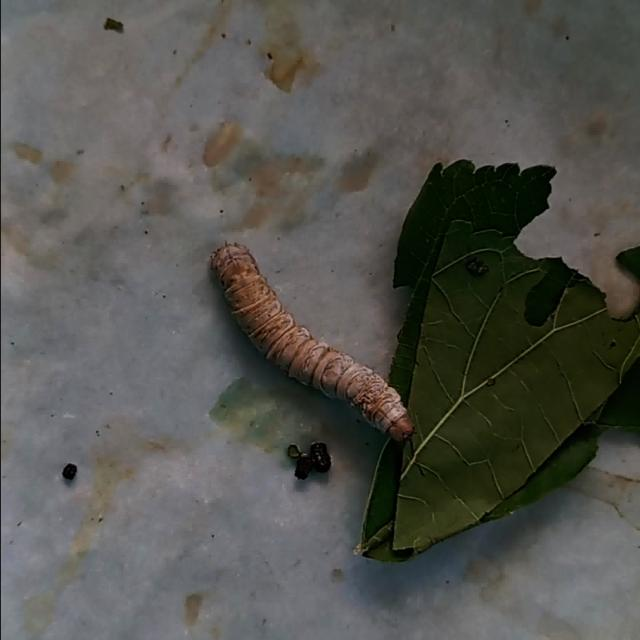Grasserie: (206, 230, 435, 449)
